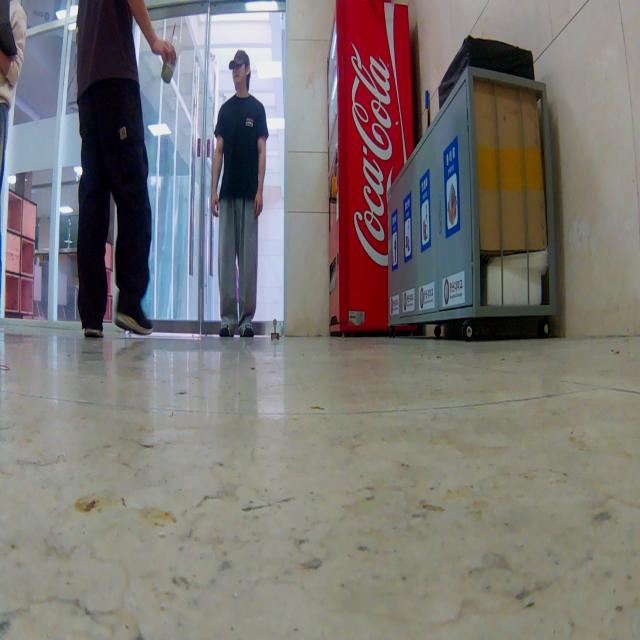target: (270, 319, 280, 341)
